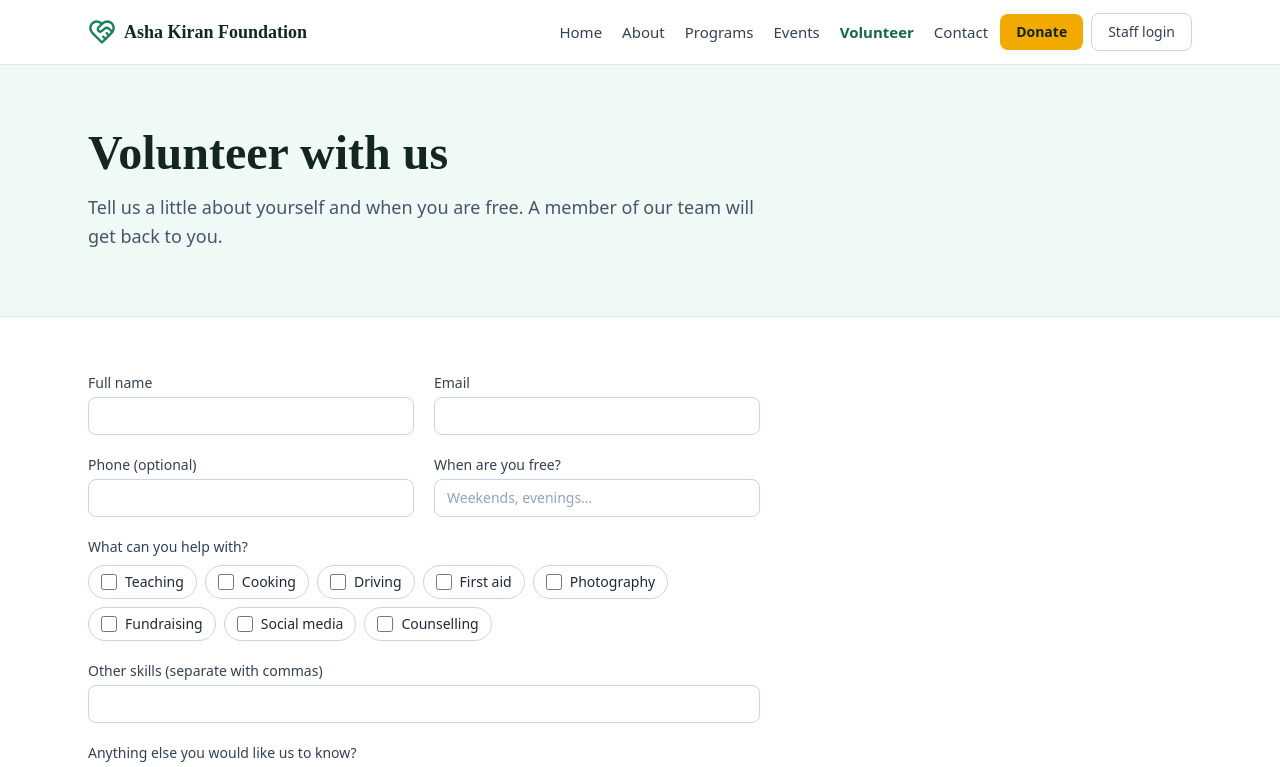
Test: volunteer application form › sends chosen and typed skills, an empty honeypot, then thanks the person
Type "Asha Rao" into the field labelled "Full name" at (251, 416), box [88,396,414,434]
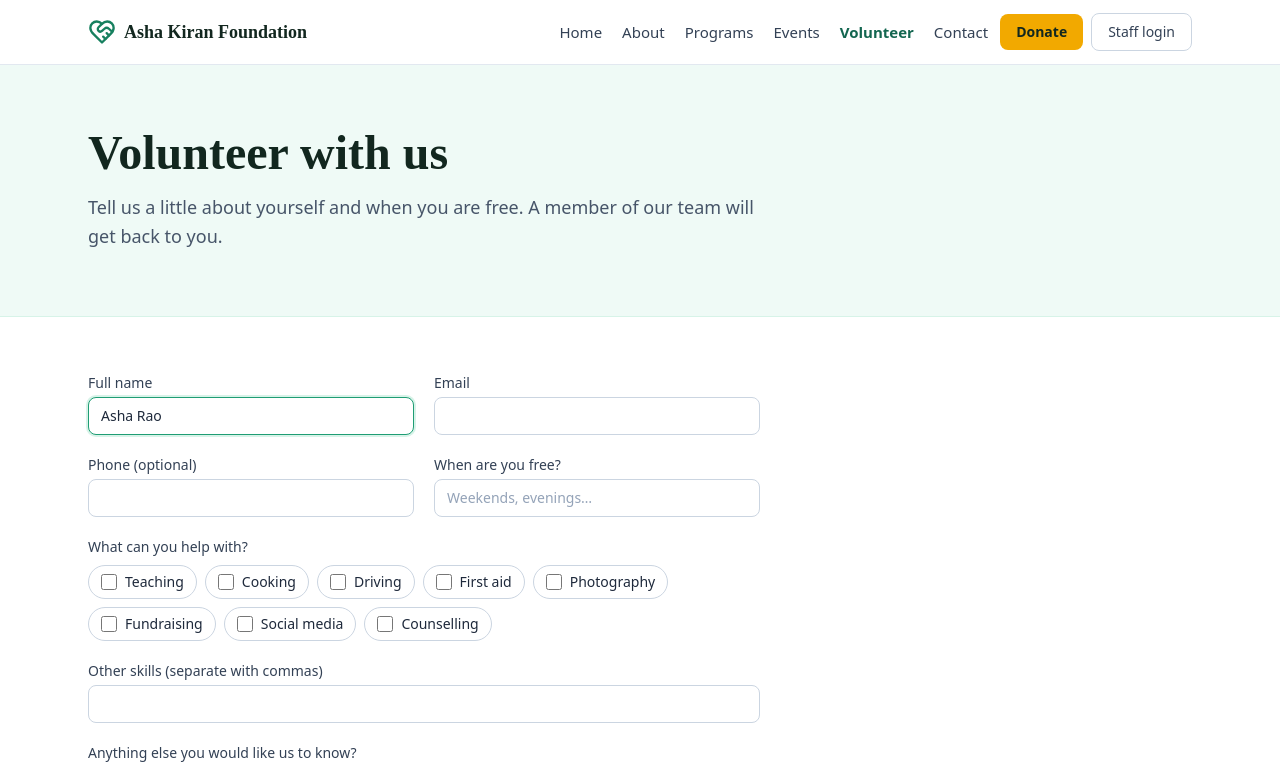
Type "asha@example.com" into the field labelled "Email" at (597, 416), box [434,396,760,434]
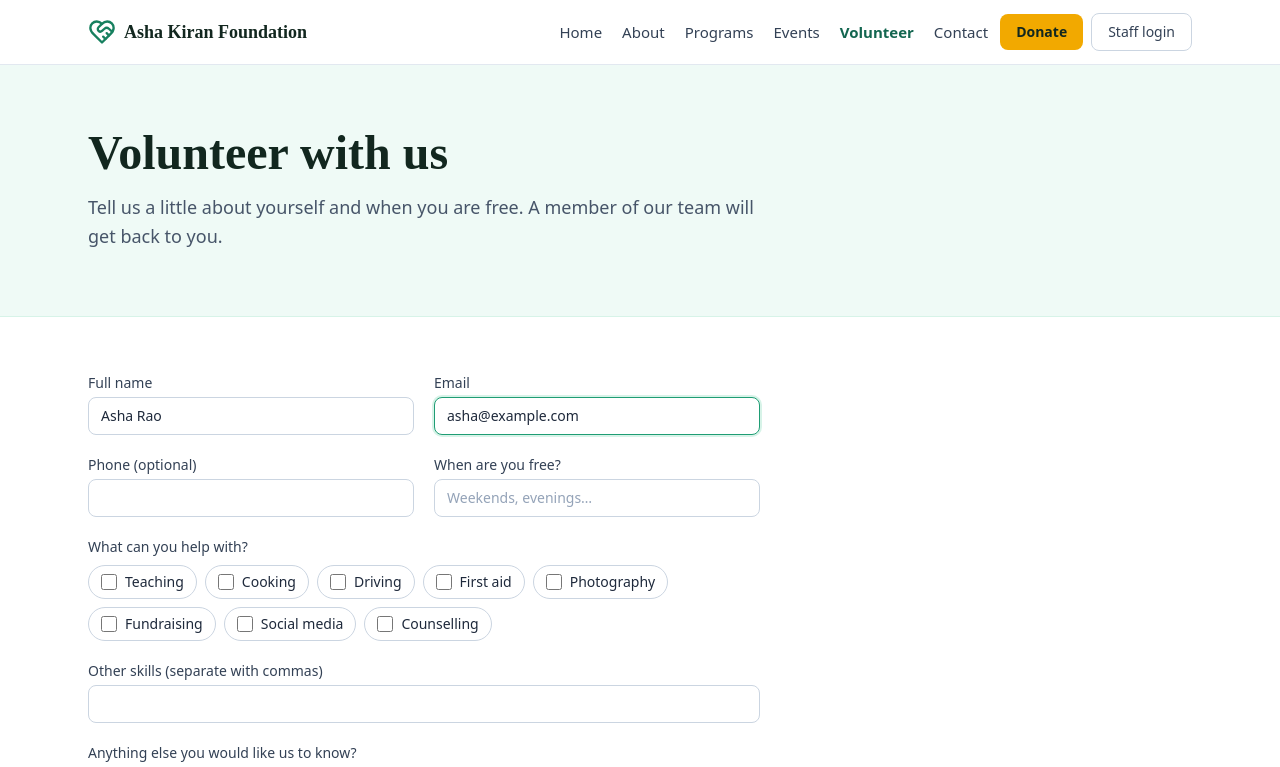
Click the checkbox labelled "Teaching" at (109, 582), box [101,574,117,590]
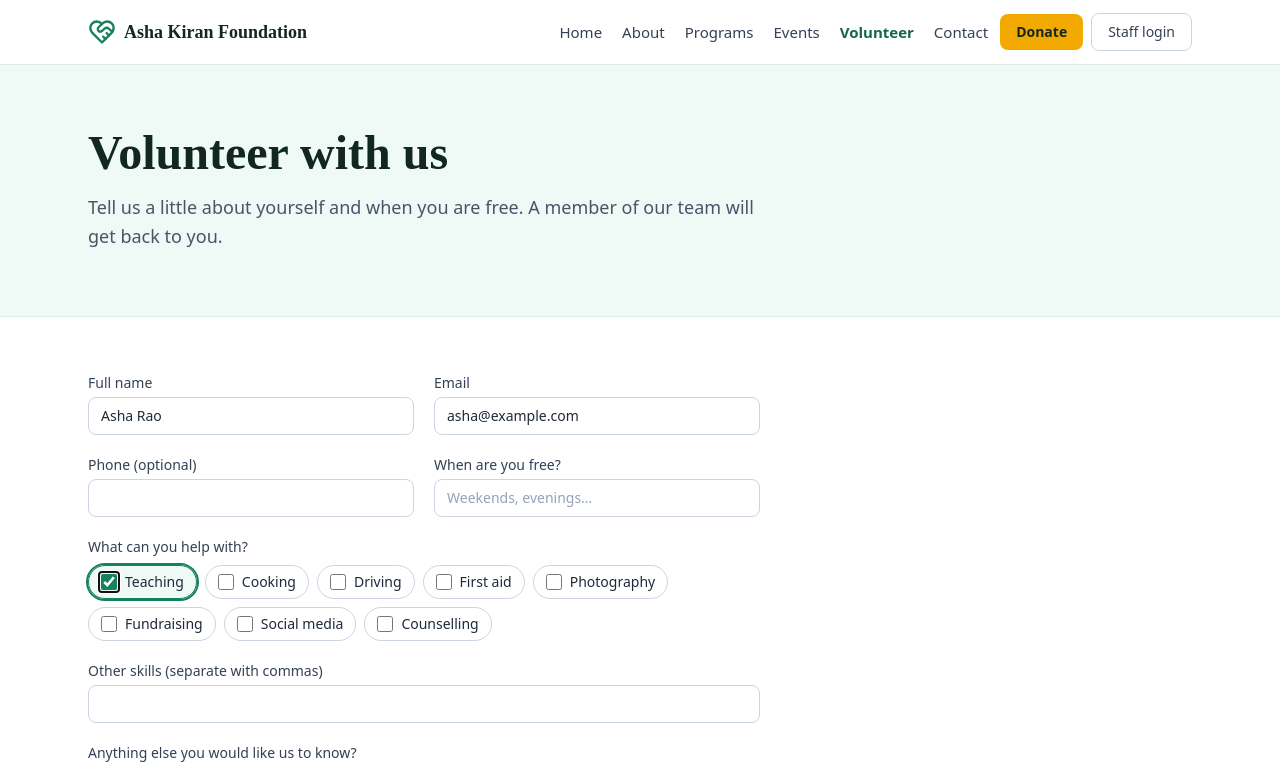
Click the checkbox labelled "Driving" at (338, 582), box [330,574,346,590]
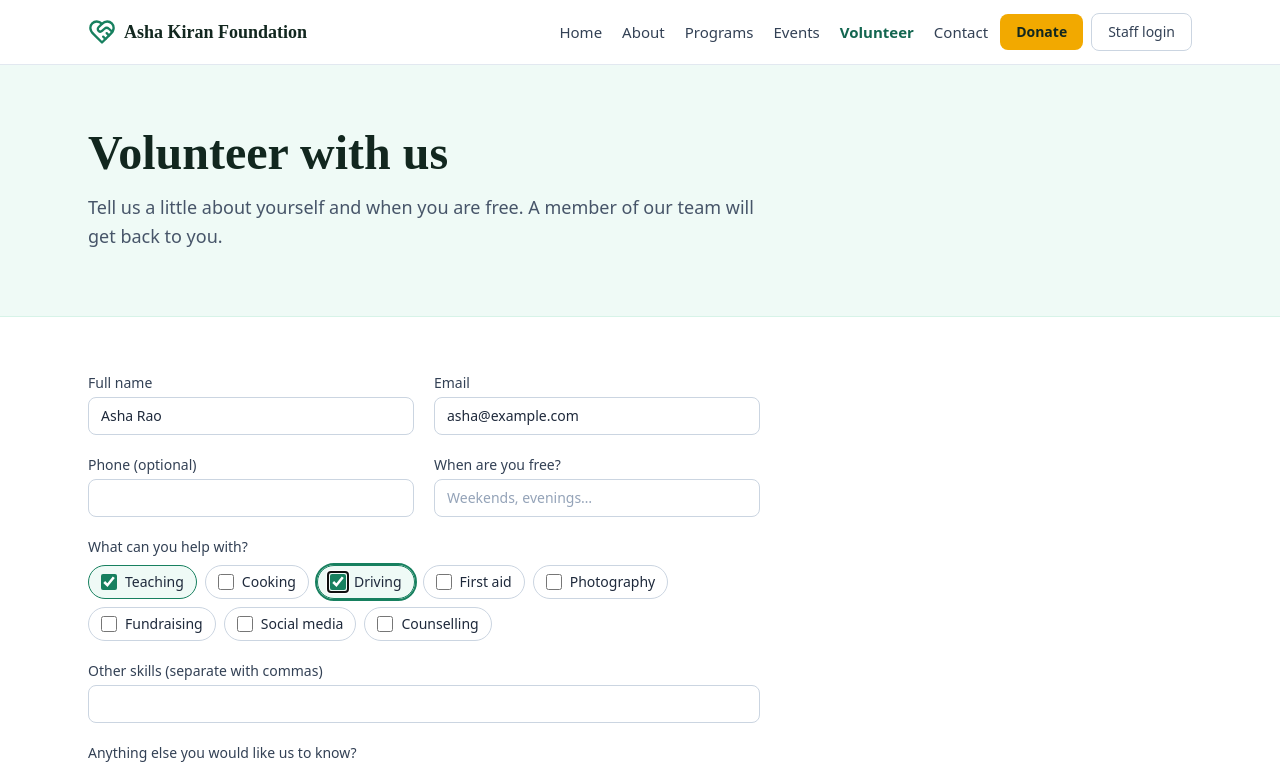
Type "Tailoring, Chess" into the field labelled "Other skills (separate with commas)" at (424, 704), box [88,684,760,722]
(page scrolled)
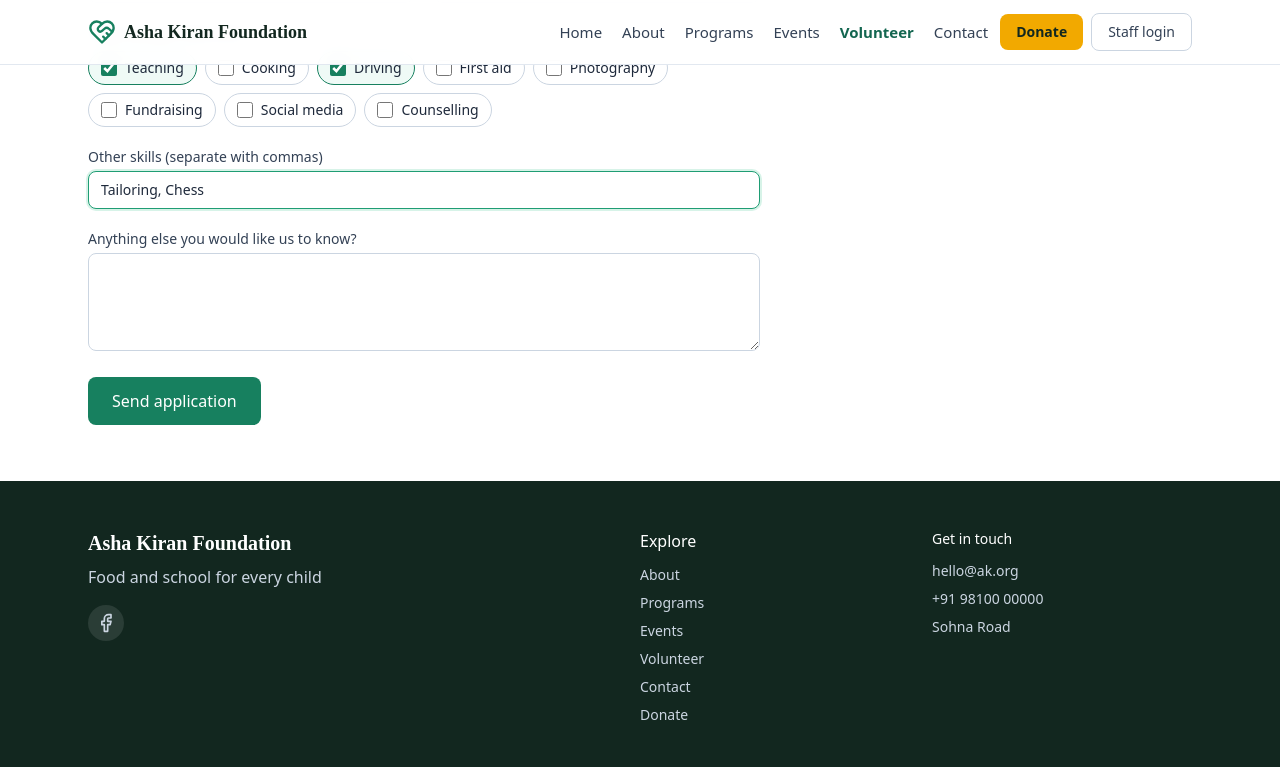
Click the button "Send application" at (174, 400), box [88,376,261,424]
(page scrolled)
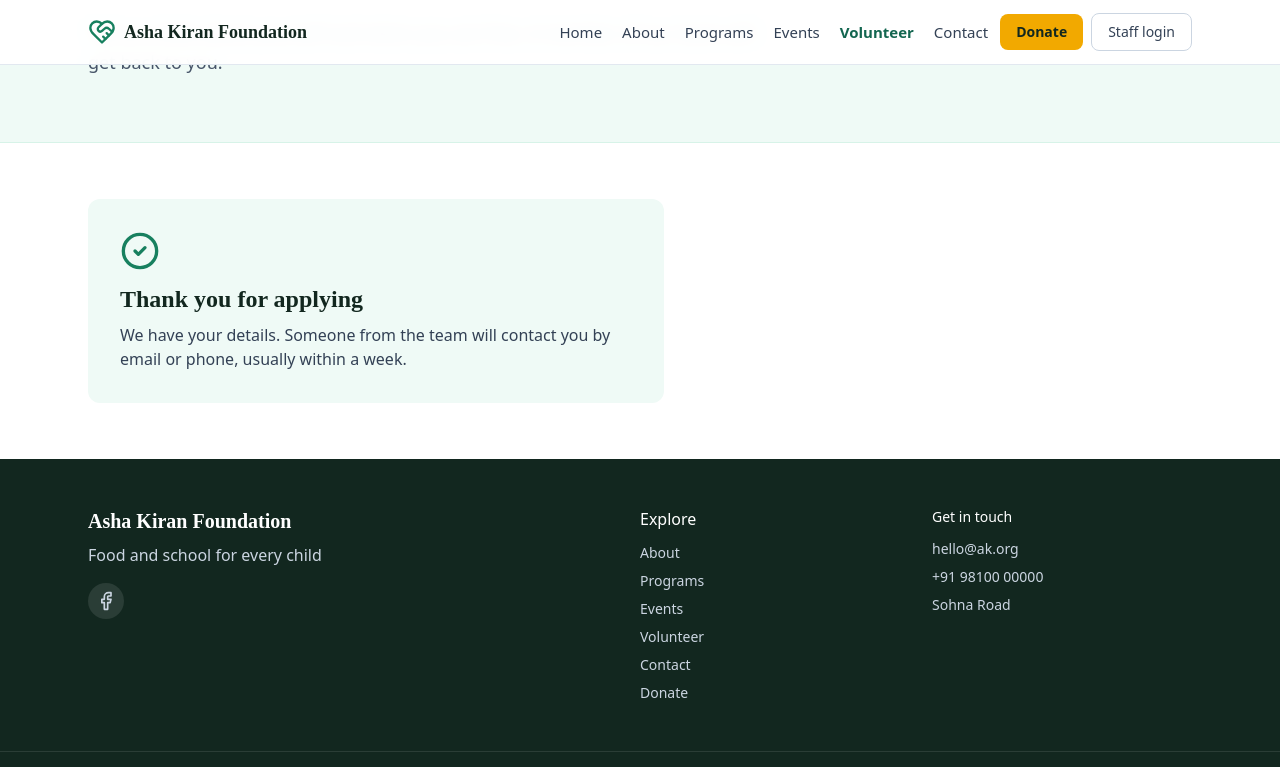
Result: the heading "Thank you for applying" is shown at [120,286,363,312]
